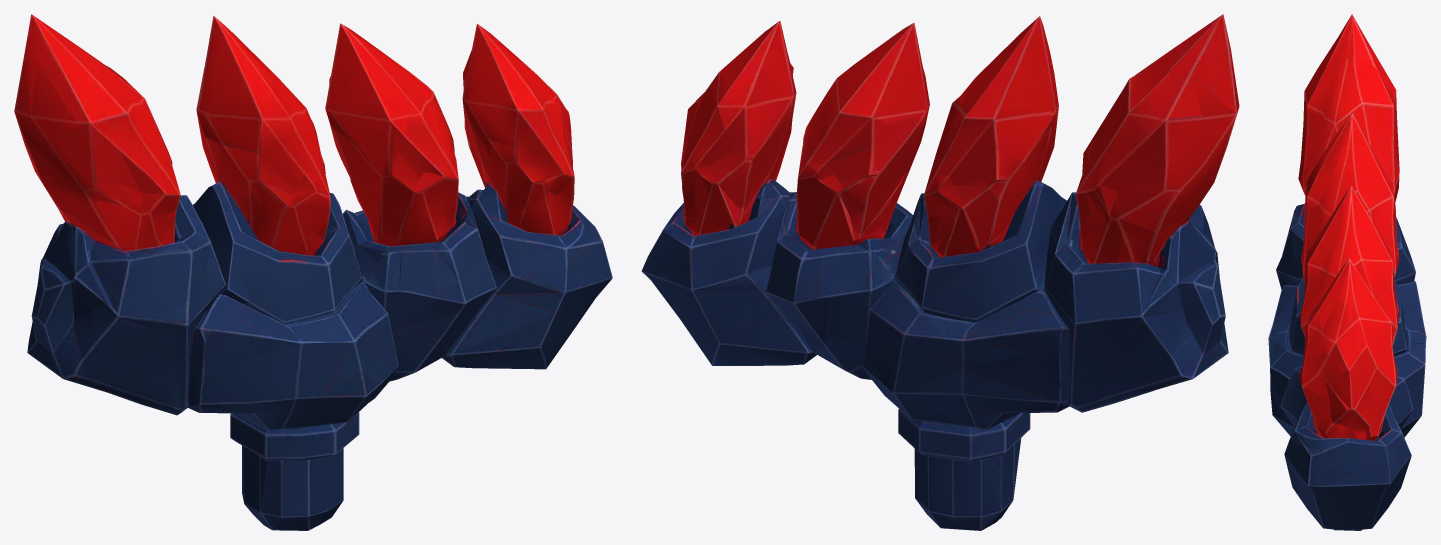
The picture shows the model from 3 angles, left to right: view 1: azimuth 30°, elevation 25°; view 2: azimuth 150°, elevation 25°; view 3: azimuth 270°, elevation 25°; orthographic projection. The views are drawn at different scales.
Visible parts, largest first — view 1: output_unwrapped; view 2: output_unwrapped; view 3: output_unwrapped.
Part boxes in pixels (bbox=[...]): output_unwrapped: bbox=[14, 14, 612, 530]; output_unwrapped: bbox=[641, 14, 1239, 530]; output_unwrapped: bbox=[1268, 14, 1426, 530].
Size of the model in its own units: 1.9 by 1.81 by 0.6259.
1 material, 1 textured.
